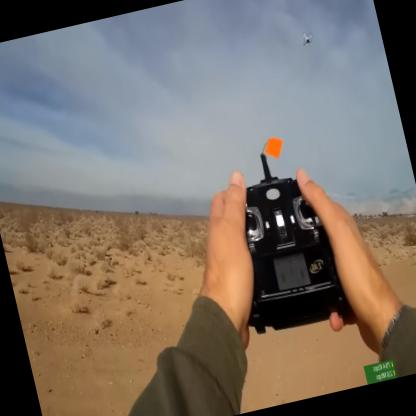drone: (295, 20, 320, 54)
